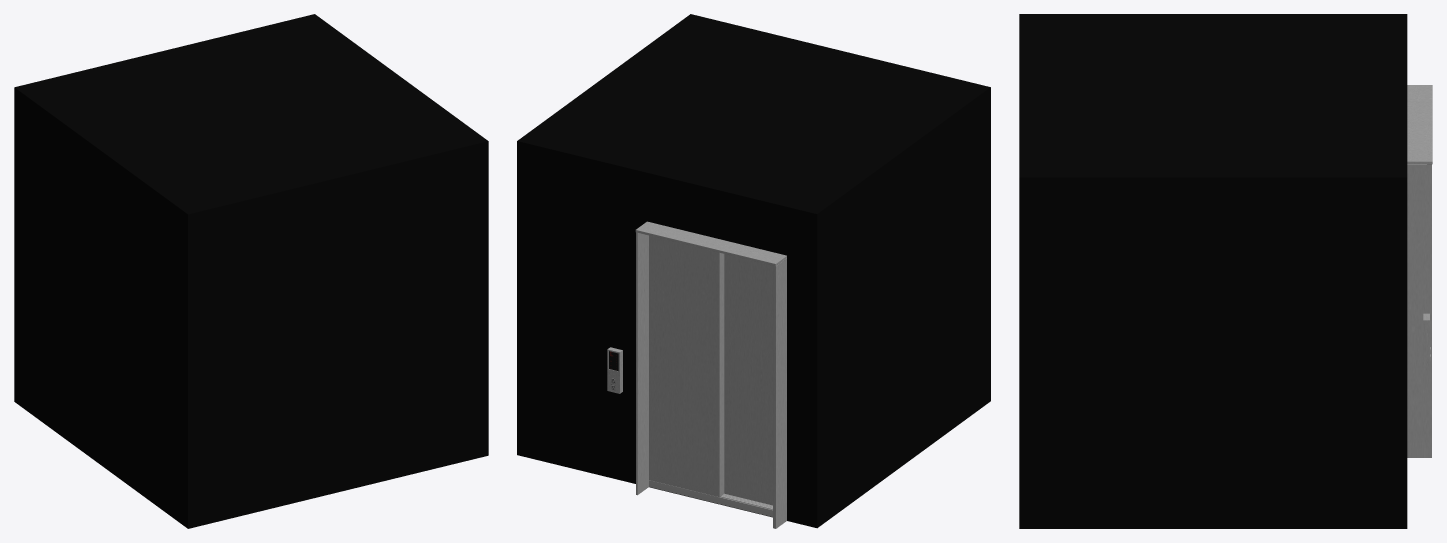
File: ELEVATORTEST.glb
3 views of the same model, side by side, from view 1: azimuth 30°, elevation 25°; view 2: azimuth 150°, elevation 25°; view 3: azimuth 270°, elevation 25° (orthographic). The views are drawn at different scales.
Visible parts, largest first — view 1: elevator_Shaft; view 2: elevator_Shaft, floor_door_part_2, elevator_door_part_2, floor_door_frame_part_1, floor_door_track_platform; view 3: elevator_Shaft, floor_door_frame_part_1.
Boxes of the visible parts, box(x1,y1,x2,y2) form: elevator_Shaft: box(14, 14, 488, 528); elevator_Shaft: box(517, 14, 990, 528); floor_door_part_2: box(649, 235, 724, 496); elevator_door_part_2: box(724, 254, 772, 505); floor_door_frame_part_1: box(635, 221, 786, 528); floor_door_track_platform: box(649, 480, 772, 516); elevator_Shaft: box(1019, 14, 1407, 528); floor_door_frame_part_1: box(1407, 85, 1432, 457).
Bounding box in the file's own units: 2.27 × 2.27 × 2.42.
48 materials, 14 textured.
